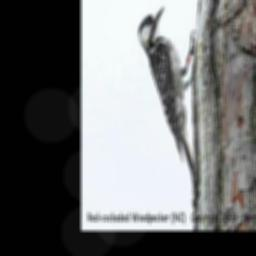Woodpecker: (136, 6, 198, 195)
